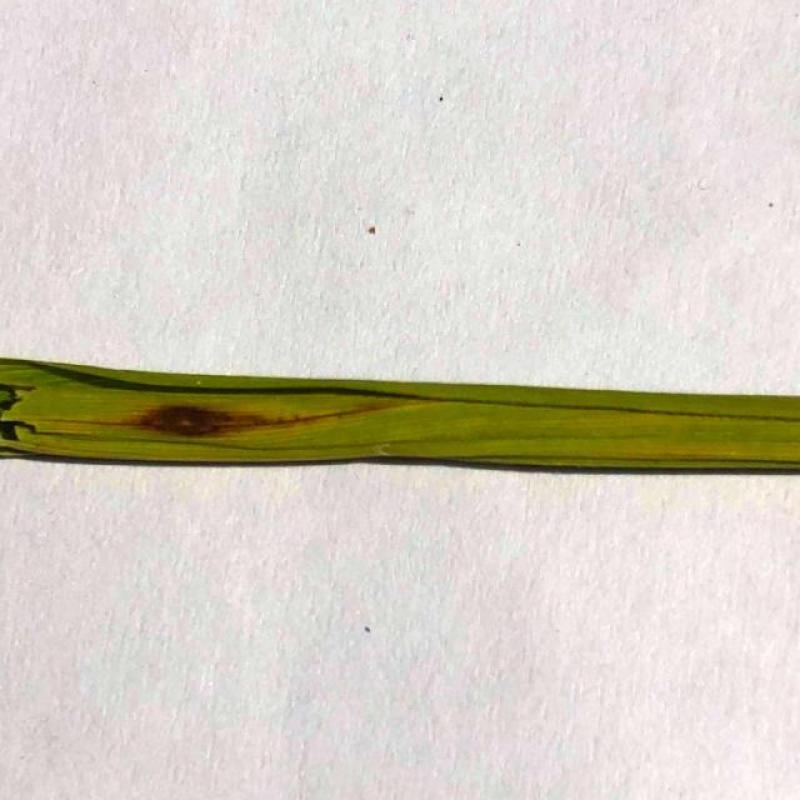Leaf_Blast: (79, 372, 310, 468)
